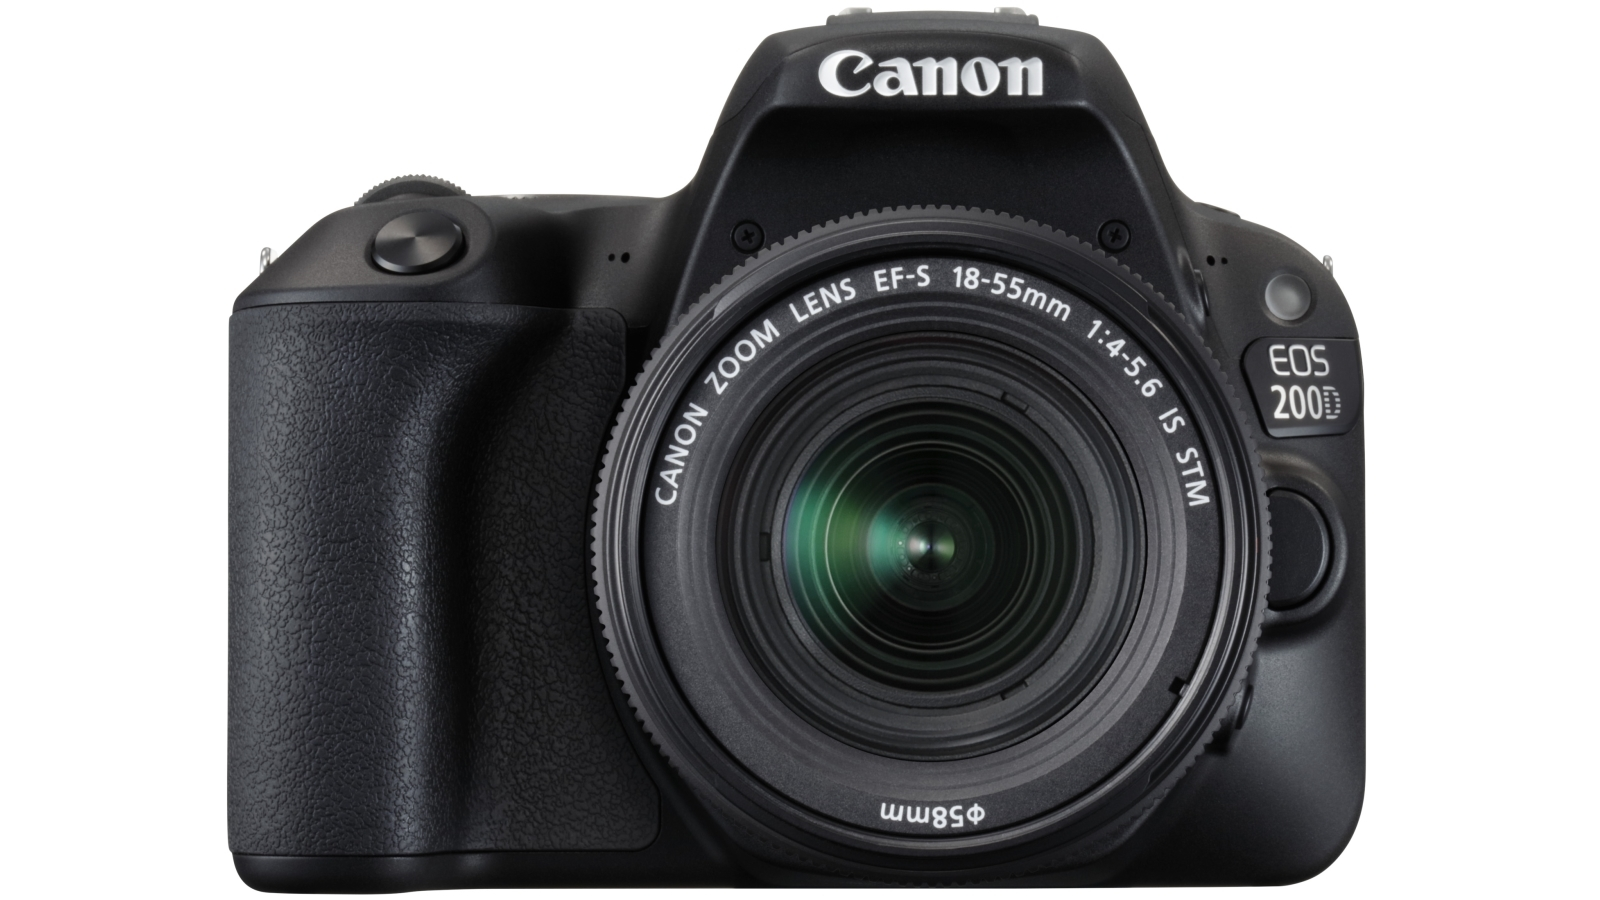kamera: (216, 4, 1387, 900)
